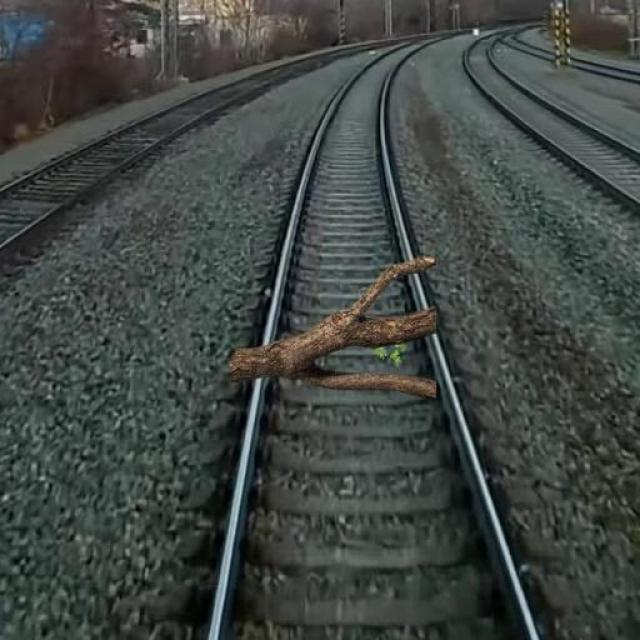Branches: (214, 252, 457, 402)
